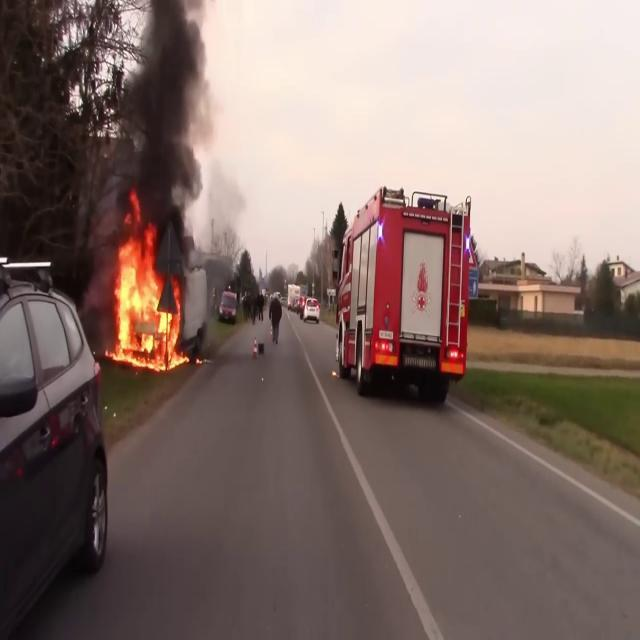Fire: (108, 217, 184, 371)
Smoke: (76, 1, 222, 261)
